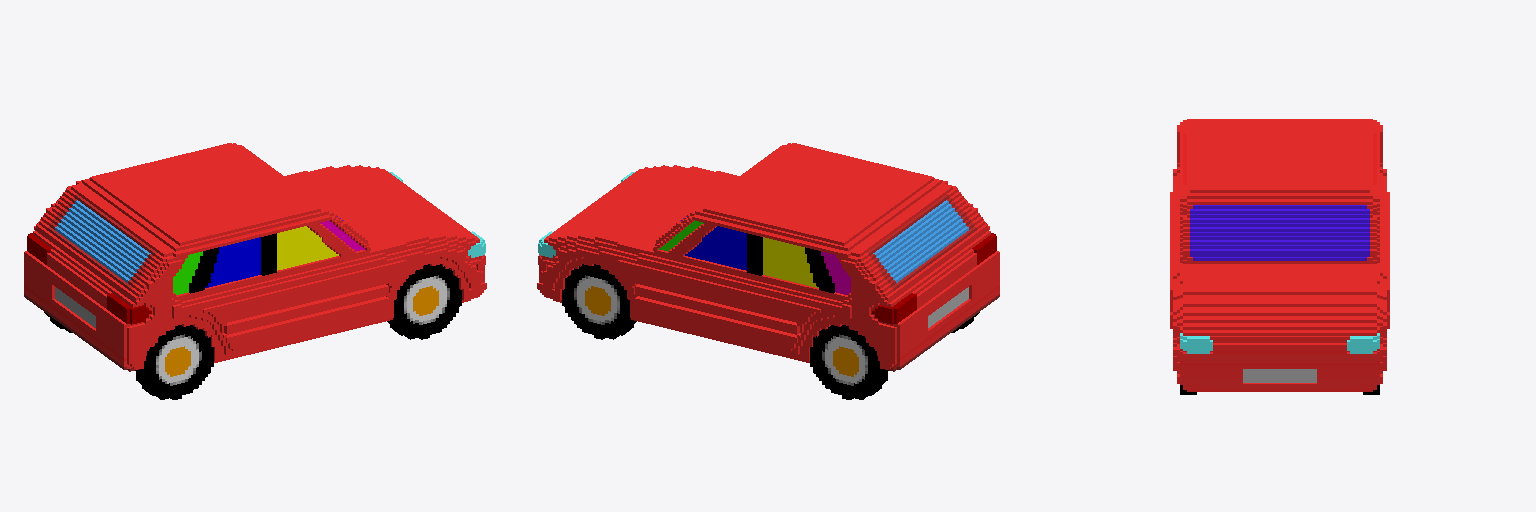
3 views of the same model, side by side, from view 1: azimuth 30°, elevation 25°; view 2: azimuth 150°, elevation 25°; view 3: azimuth 270°, elevation 25° (orthographic).
Size of the model in its own units: 126 by 50 by 66.
Materials: 1 (1 with a texture image).